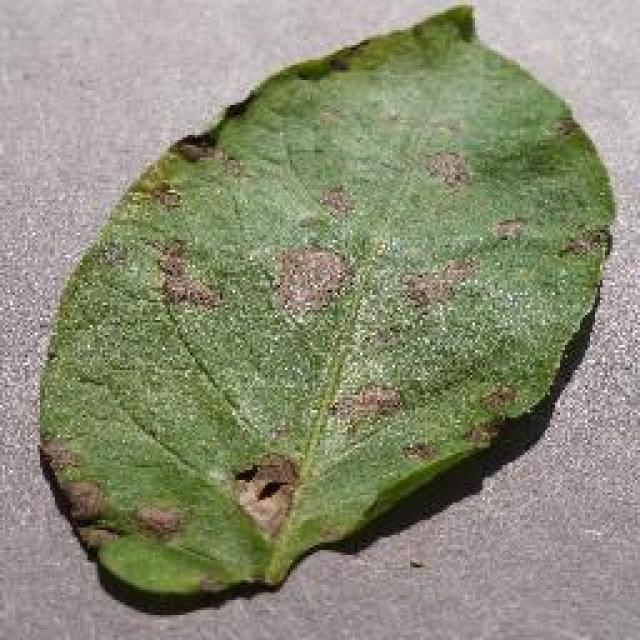early_blight: (32, 0, 620, 605)
